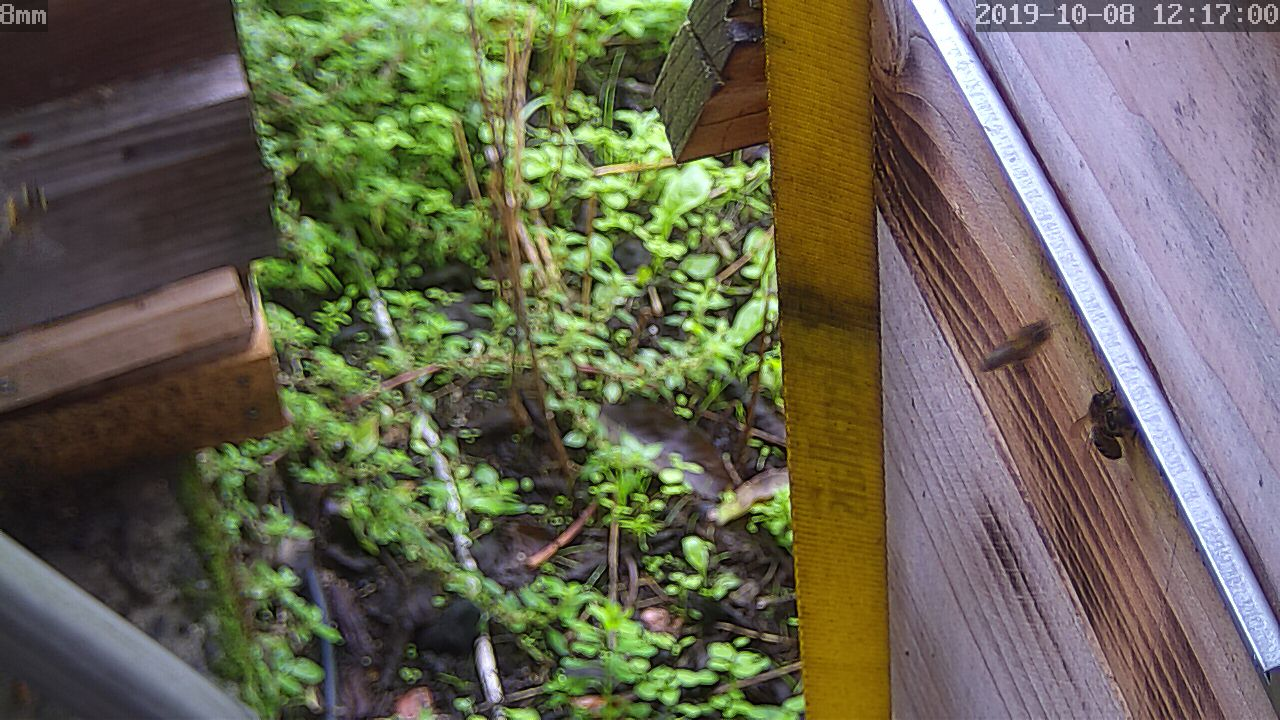hornet: (1066, 365, 1135, 469)
